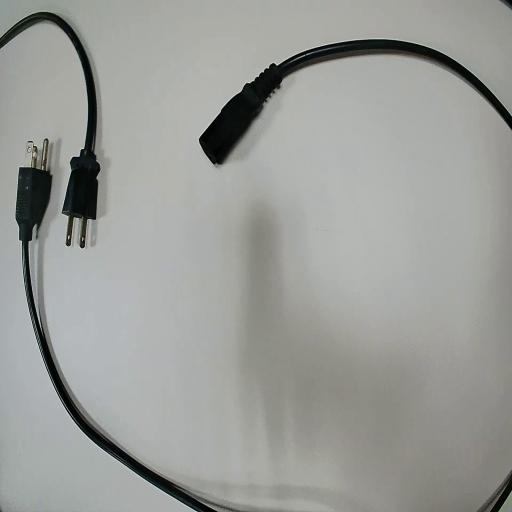wire: (17, 167, 214, 511), (200, 40, 511, 163), (0, 13, 99, 235)
